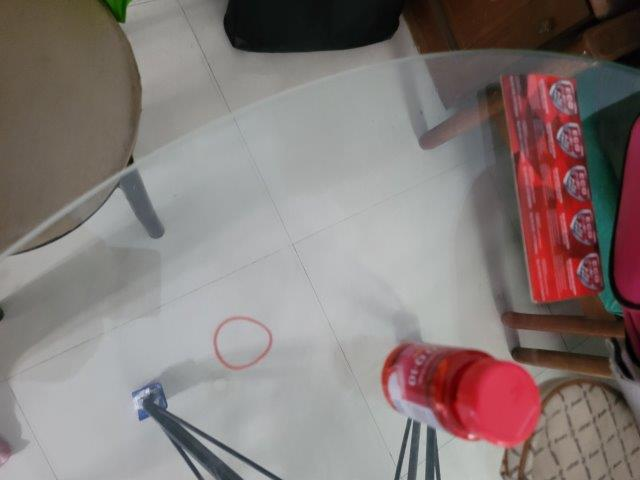karet: (212, 317, 276, 371)
